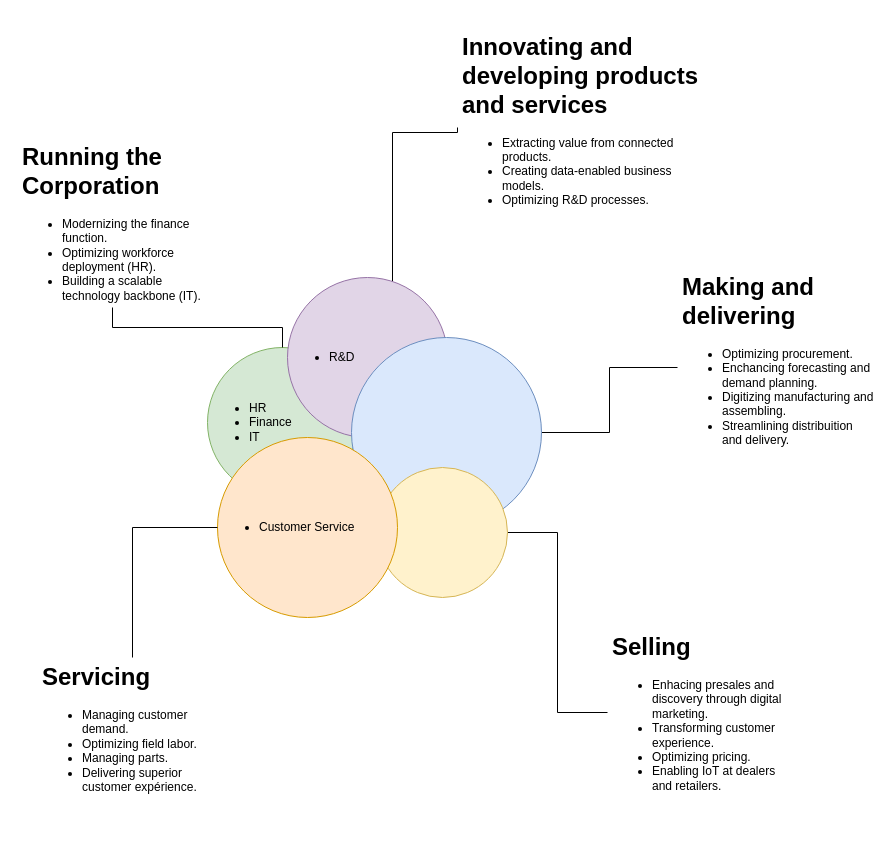
This 894x844 diagram has some shape labels left out. Each missing label, with the box of its shape:
Engg. & Operations: (350, 336, 542, 528)
Sales & Market: (376, 466, 508, 598)
